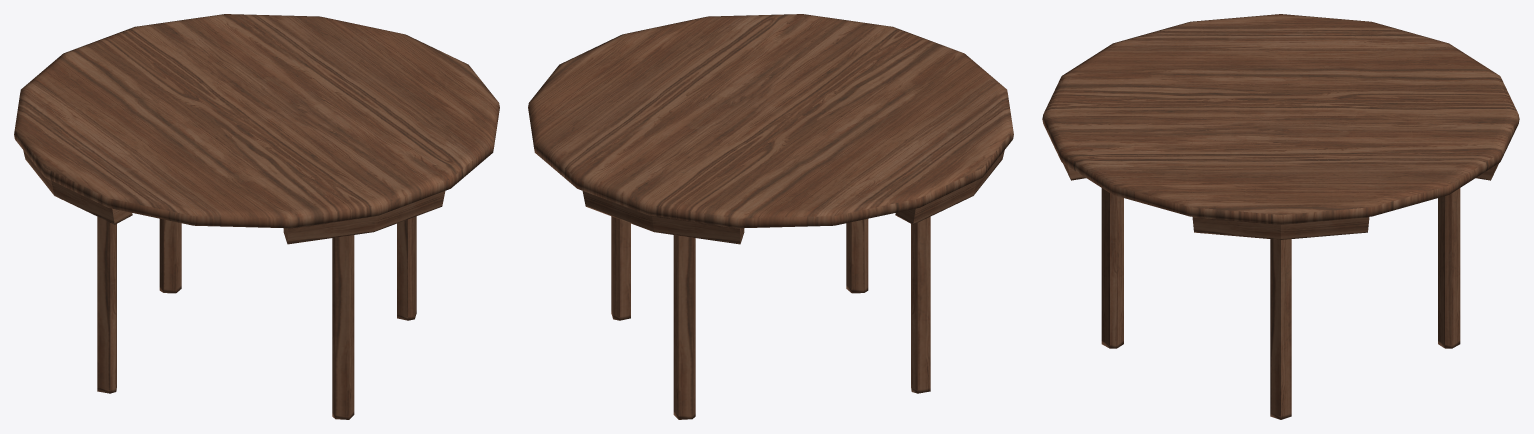
File: round_table.glb
3 renders of one model, left to right at view 1: azimuth 30°, elevation 25°; view 2: azimuth 150°, elevation 25°; view 3: azimuth 270°, elevation 25°, orthographic. The views are drawn at different scales.
Parts seen in each view (by area): view 1: RoundTable; view 2: RoundTable; view 3: RoundTable.
Part boxes in pixels (x1,y1,x2,y2): RoundTable: (14,14,499,419); RoundTable: (528,14,1013,419); RoundTable: (1042,14,1519,419).
Bounding box in the file's own units: 1.28 × 0.6885 × 1.28.
Materials: 1 (1 with a texture image).
